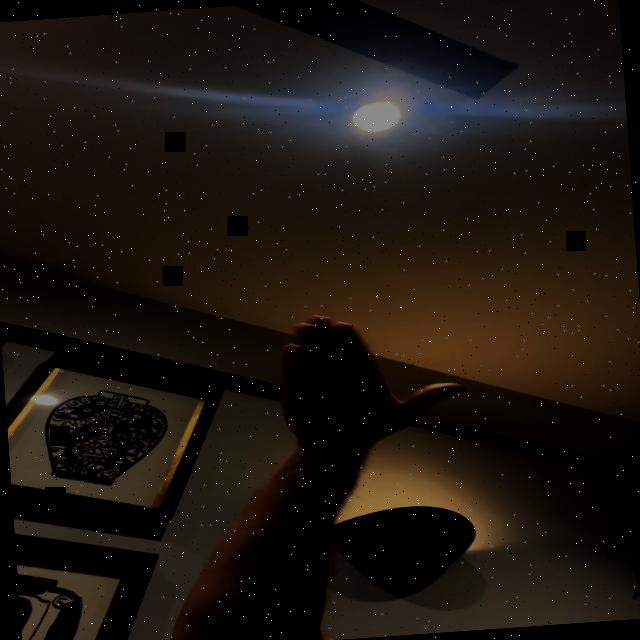Paper: (276, 304, 470, 451)
